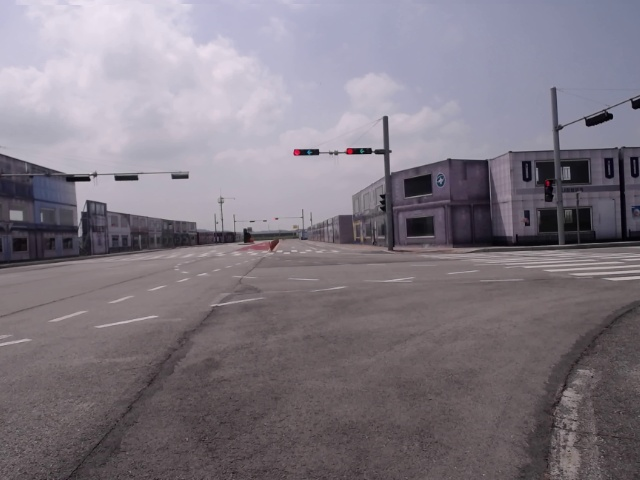left_green_4: (294, 149, 319, 155), (346, 149, 371, 155)
